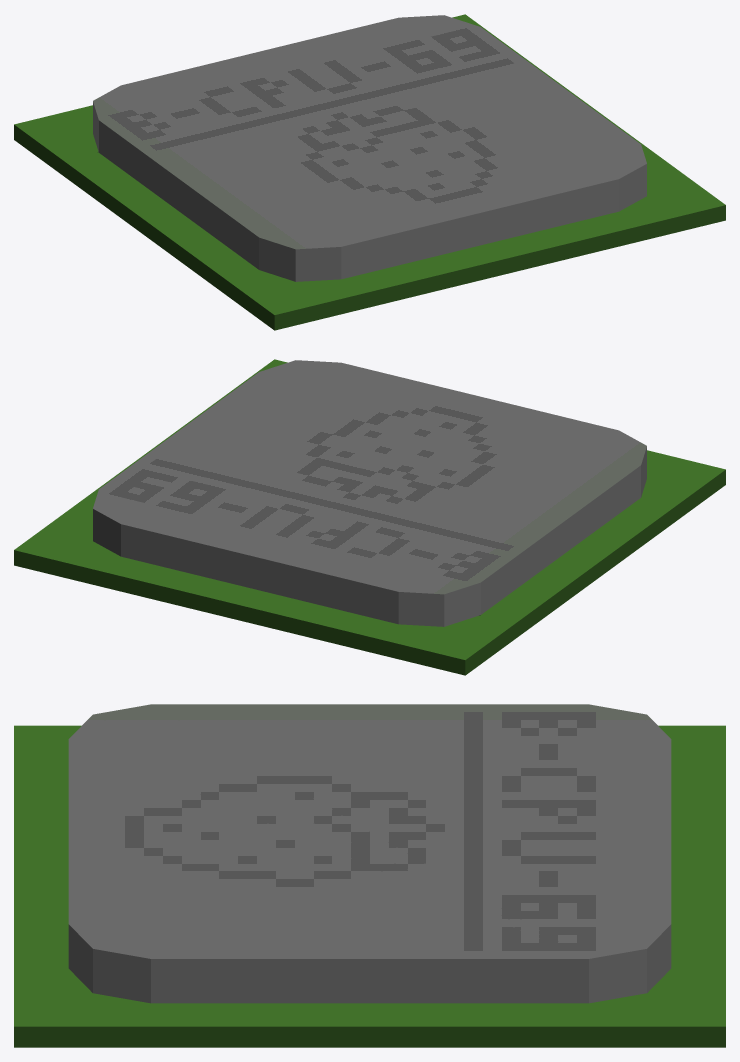
Rendered from B-CPU.fbx.
3 renders of one model, top to bottom at view 1: azimuth 30°, elevation 25°; view 2: azimuth 150°, elevation 25°; view 3: azimuth 270°, elevation 25°, orthographic. The views are drawn at different scales.
Visible parts, largest first — view 1: Cube; view 2: Cube; view 3: Cube.
Boxes of the visible parts, x1,y1,x2,y2 form: Cube: [14, 14, 725, 330]; Cube: [14, 359, 725, 675]; Cube: [14, 704, 725, 1047].
Size of the model in its own units: 22.87 by 2.32 by 22.87.
